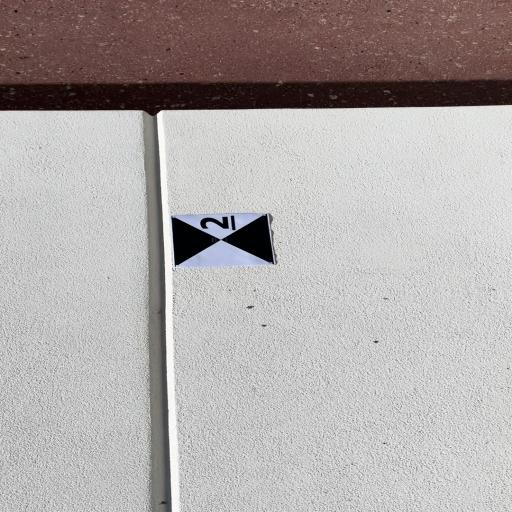target2: (172, 215, 274, 267)
